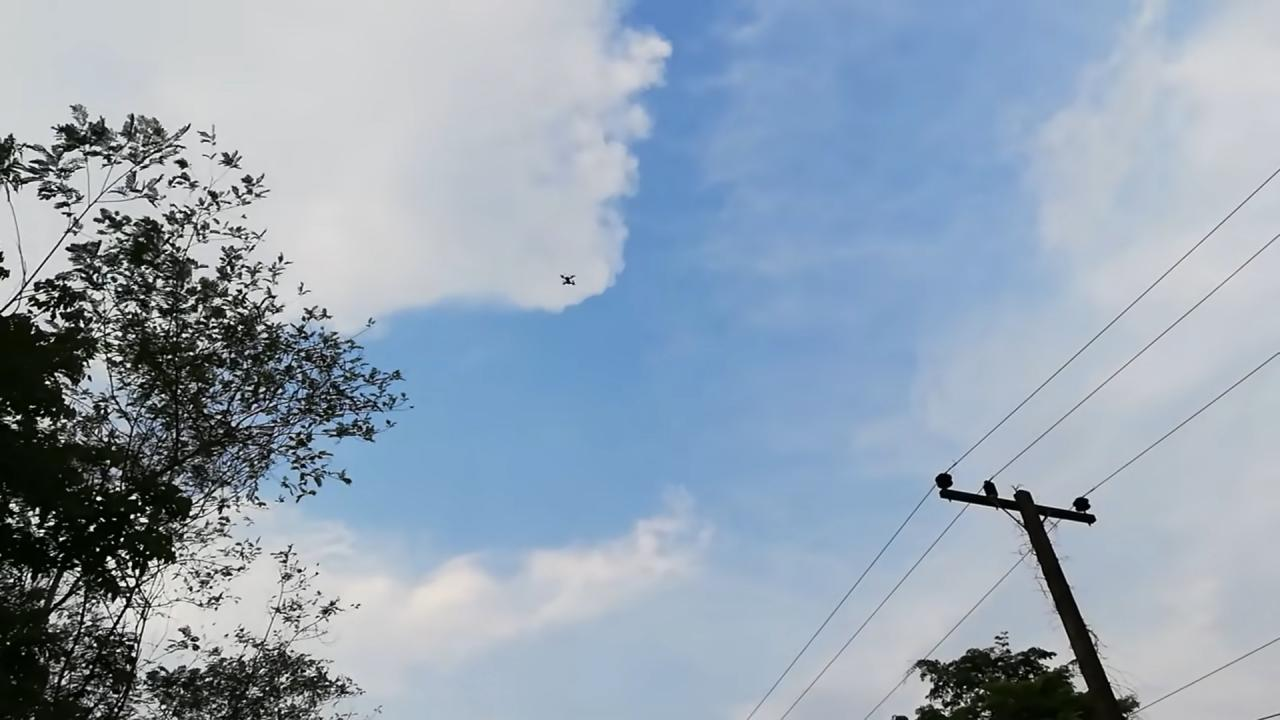Drone: (554, 268, 579, 294)
